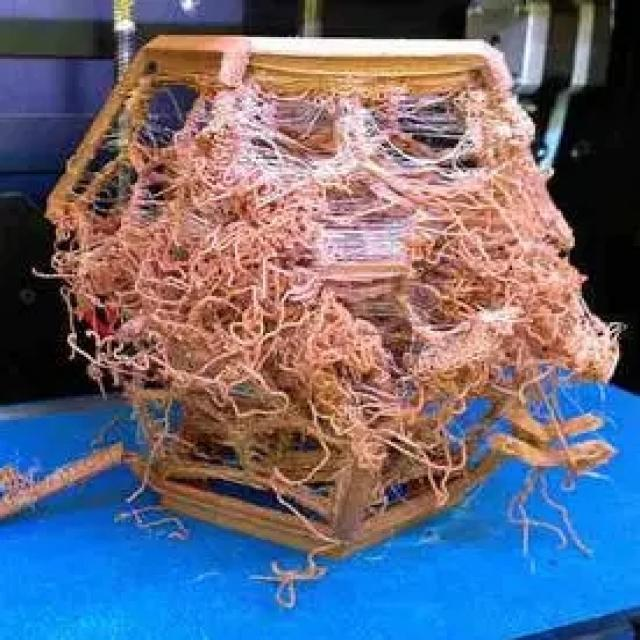spaghetti: (457, 134, 553, 272), (499, 418, 597, 547), (354, 367, 463, 468), (315, 219, 416, 321), (166, 325, 297, 397), (531, 284, 609, 396), (354, 104, 448, 195), (129, 244, 226, 324), (220, 109, 336, 167), (254, 414, 347, 486), (170, 149, 250, 231), (216, 238, 304, 311), (429, 273, 514, 344), (156, 403, 238, 473), (75, 249, 120, 310), (266, 180, 304, 232)
